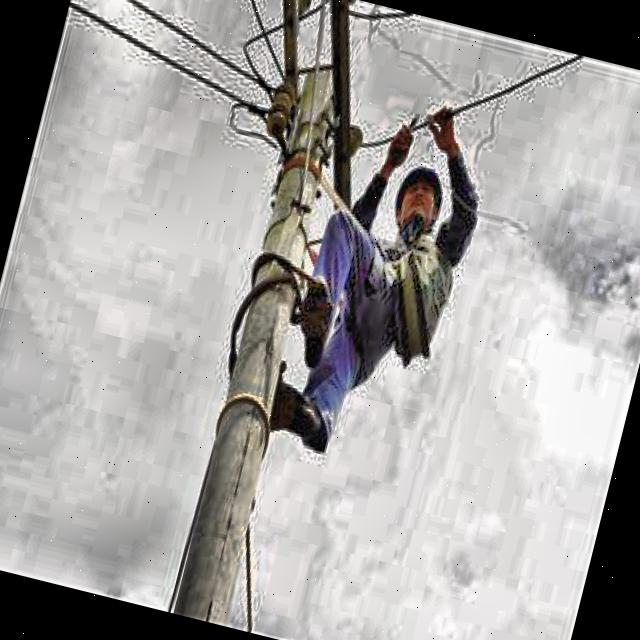helmet: (382, 153, 454, 254)
